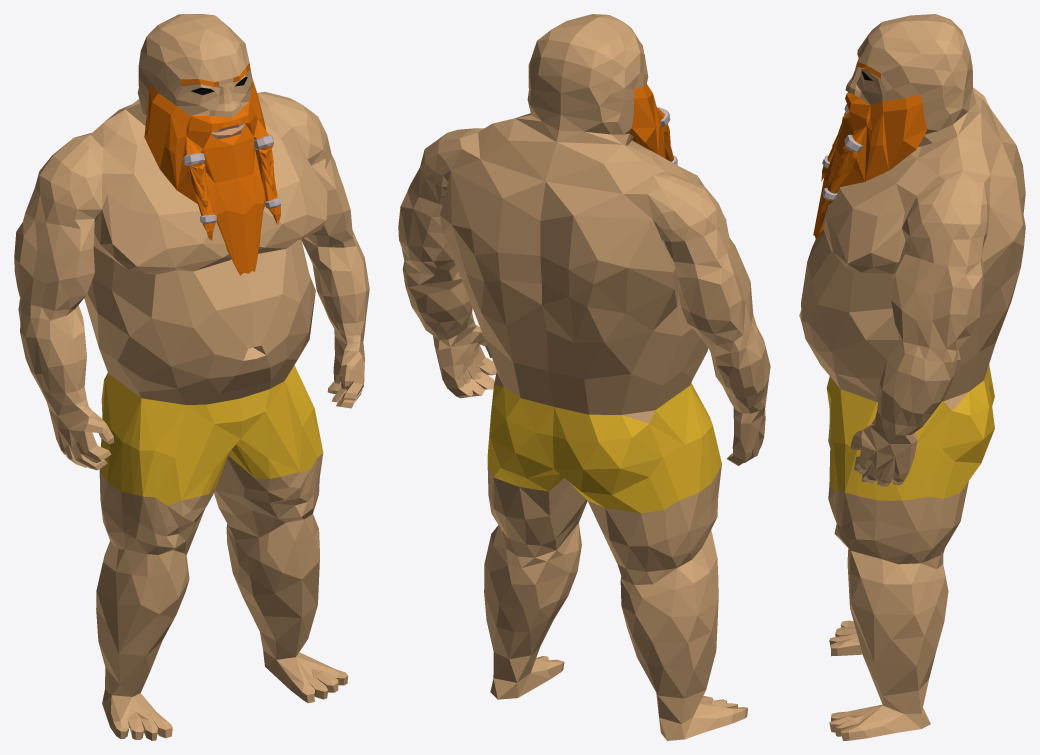
File: Dwarf.fbx
3 renders of one model, left to right at view 1: azimuth 30°, elevation 25°; view 2: azimuth 150°, elevation 25°; view 3: azimuth 270°, elevation 25°, orthographic. The views are drawn at different scales.
Visible parts, largest first — view 1: Cylinder; view 2: Cylinder; view 3: Cylinder.
Part boxes in pixels (bbox=[...]): Cylinder: bbox=[14, 14, 369, 740]; Cylinder: bbox=[398, 14, 770, 740]; Cylinder: bbox=[799, 14, 1025, 740].
Size of the model in its own units: 104 by 197 by 60.54.
